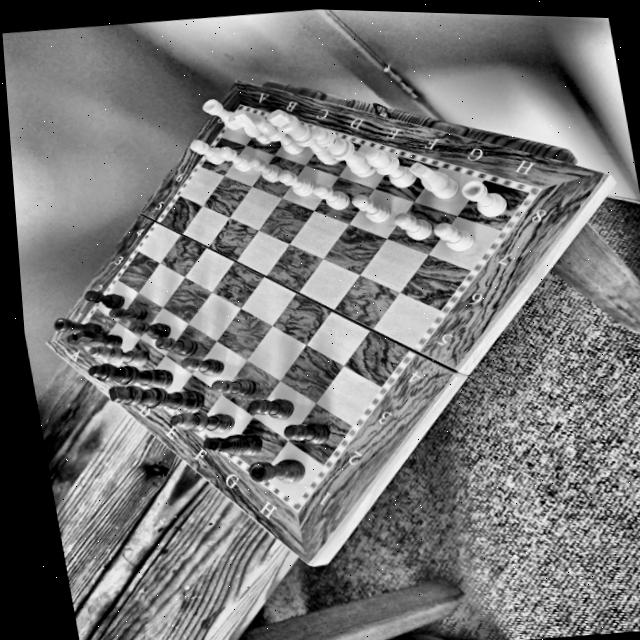black-bishop: (169, 404, 241, 439), (82, 337, 157, 370)
black-king: (104, 373, 206, 419)
black-knight: (198, 429, 265, 460), (66, 324, 125, 352)
black-pawn: (247, 391, 296, 423), (282, 416, 332, 445), (125, 316, 177, 341), (80, 285, 130, 310), (180, 352, 228, 378), (208, 371, 254, 398), (103, 300, 149, 323), (154, 336, 199, 358)
black-queen: (85, 358, 176, 394)
black-rook: (244, 452, 312, 488), (52, 312, 100, 337)
white-bishop: (359, 138, 418, 190), (251, 107, 307, 158)
white-king: (262, 102, 343, 169)
white-knight: (405, 155, 462, 201), (231, 101, 275, 146)
white-pawn: (350, 188, 394, 226), (432, 217, 475, 255), (307, 179, 354, 212), (185, 133, 227, 168), (391, 208, 435, 241), (273, 167, 317, 198), (246, 152, 285, 182), (217, 143, 255, 173)
white-queen: (306, 123, 377, 181)
white-rook: (456, 175, 512, 217), (196, 94, 244, 131)
